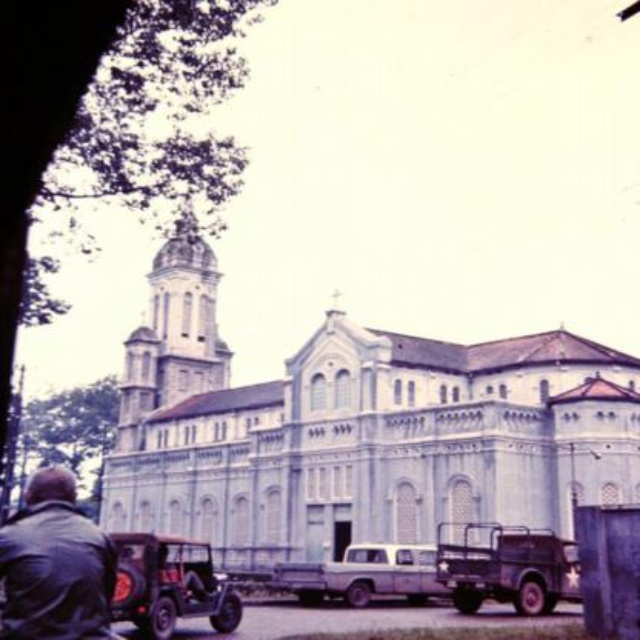Truck: (443, 528, 582, 618)
